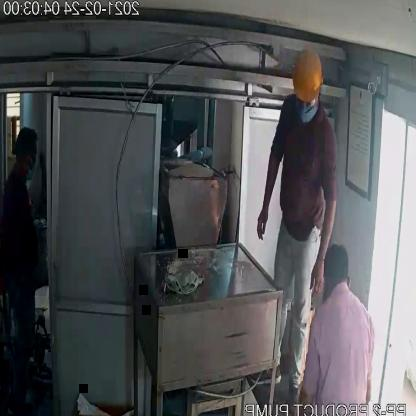helmet: (290, 43, 325, 95)
